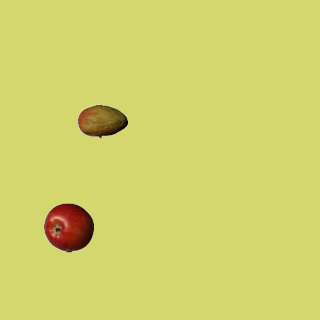Apple Braeburn: (43, 202, 93, 252)
Papaya: (77, 96, 127, 146)
